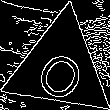O_NE: (29, 34, 91, 101)
